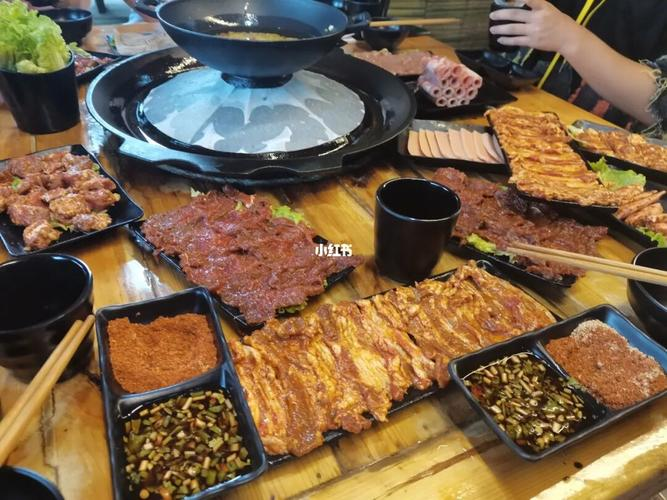food: (231, 265, 562, 433), (113, 53, 400, 187), (147, 170, 347, 329), (465, 304, 658, 456), (478, 91, 662, 245), (94, 291, 236, 405), (3, 147, 140, 254), (527, 311, 666, 410)
